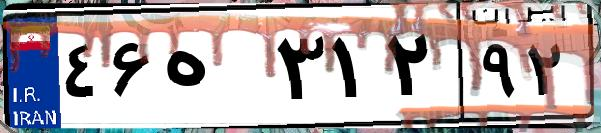1: (330, 28, 385, 110)
2: (385, 28, 445, 110), (525, 38, 570, 115)
3: (270, 28, 330, 110)
4: (57, 26, 110, 100)
6: (110, 28, 158, 98)
9: (475, 38, 525, 113)
ه: (158, 20, 270, 120)
